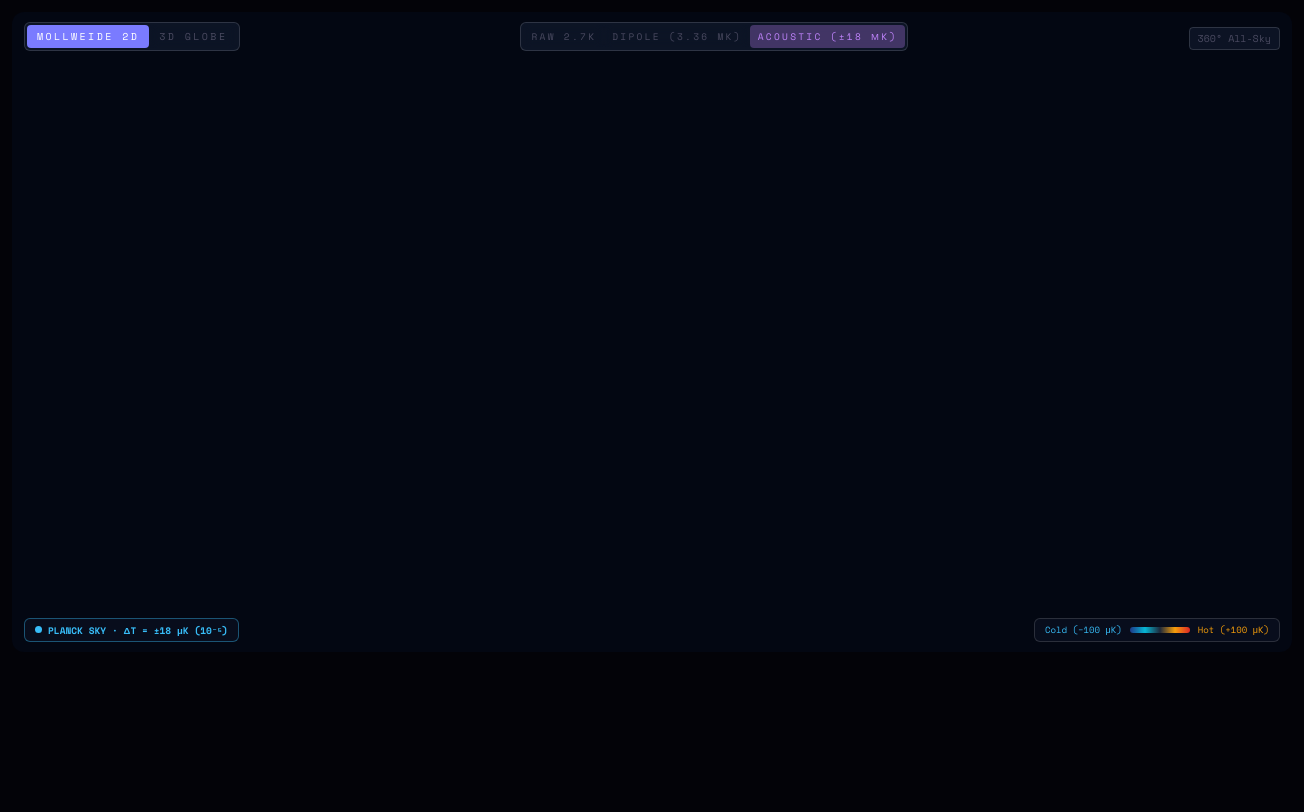
Test: TemperatureViz (The Planck All-Sky Mollweide & Thermalizer) › switches between Mollweide 2D and 3D Globe modes
Click the button "3D Globe" at (193, 36), box x1=149 y1=25 x2=238 y2=48
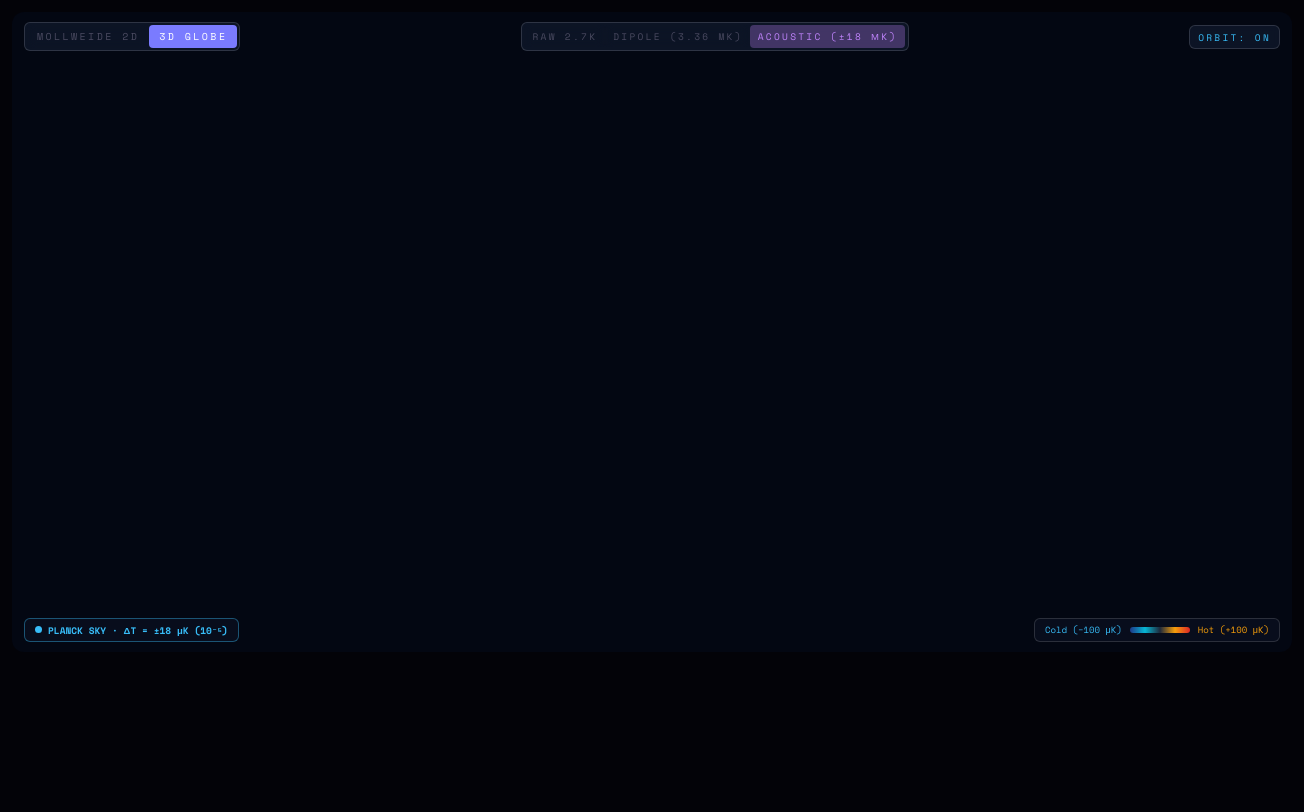
Expected: the button "Orbit: On" is shown, x1=1189 y1=25 x2=1280 y2=49
Switch back to Mollweide
Click the button "Mollweide 2D" at (88, 36), box x1=27 y1=25 x2=149 y2=48
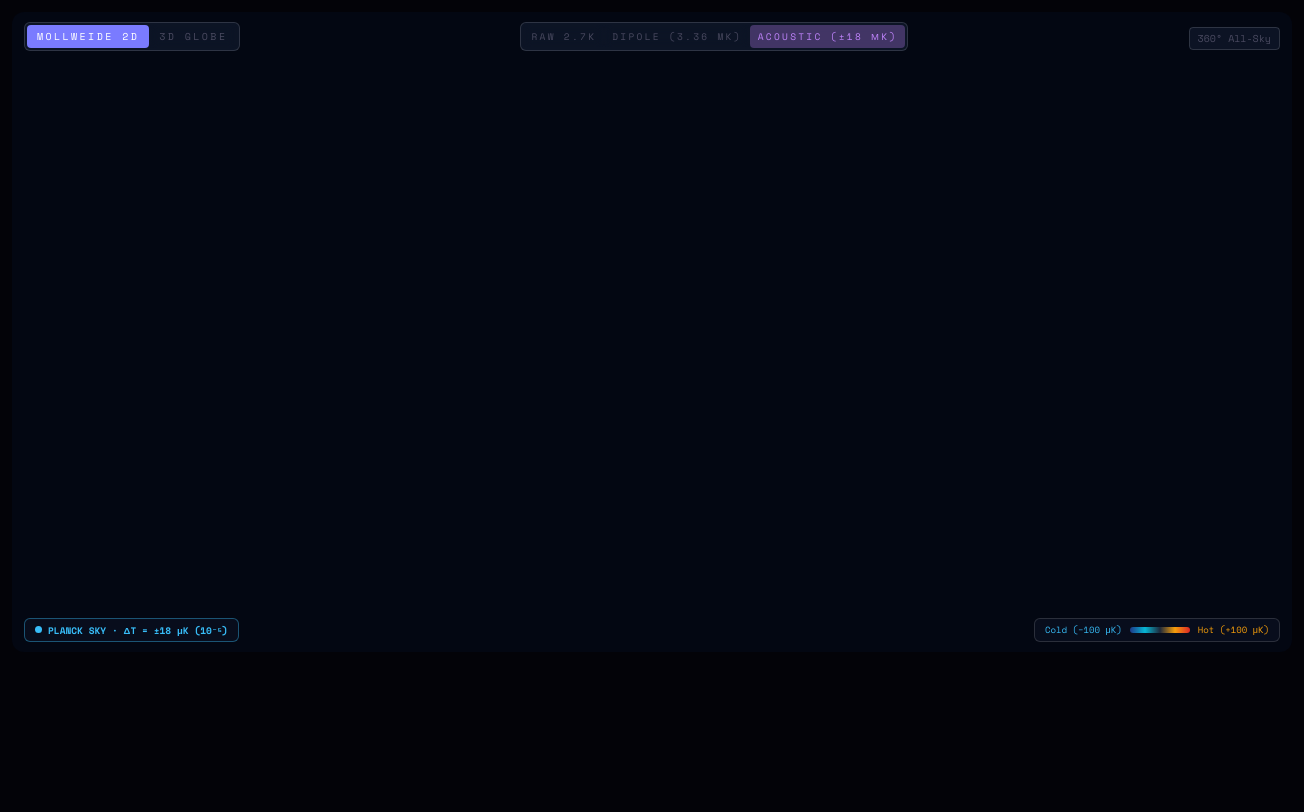
Expected: the text "360° All-Sky" is shown, x1=1188 y1=26 x2=1280 y2=50
